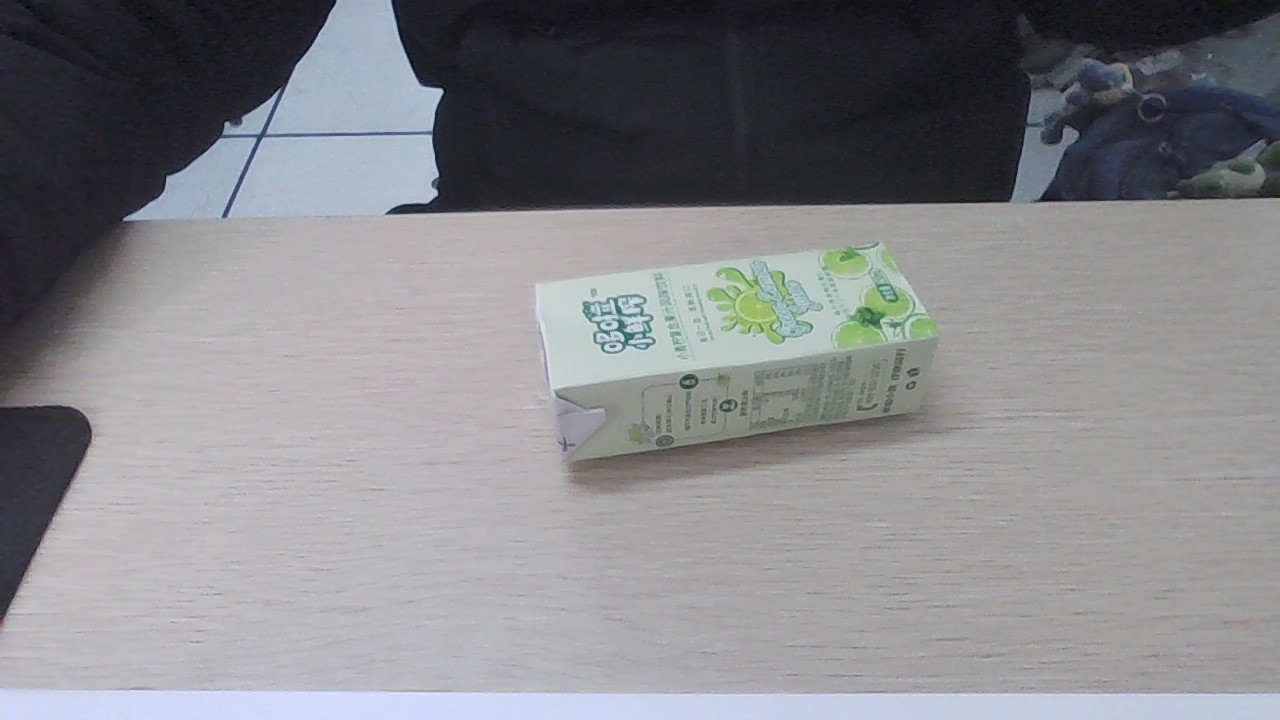CY-drink: (540, 237, 933, 455)
